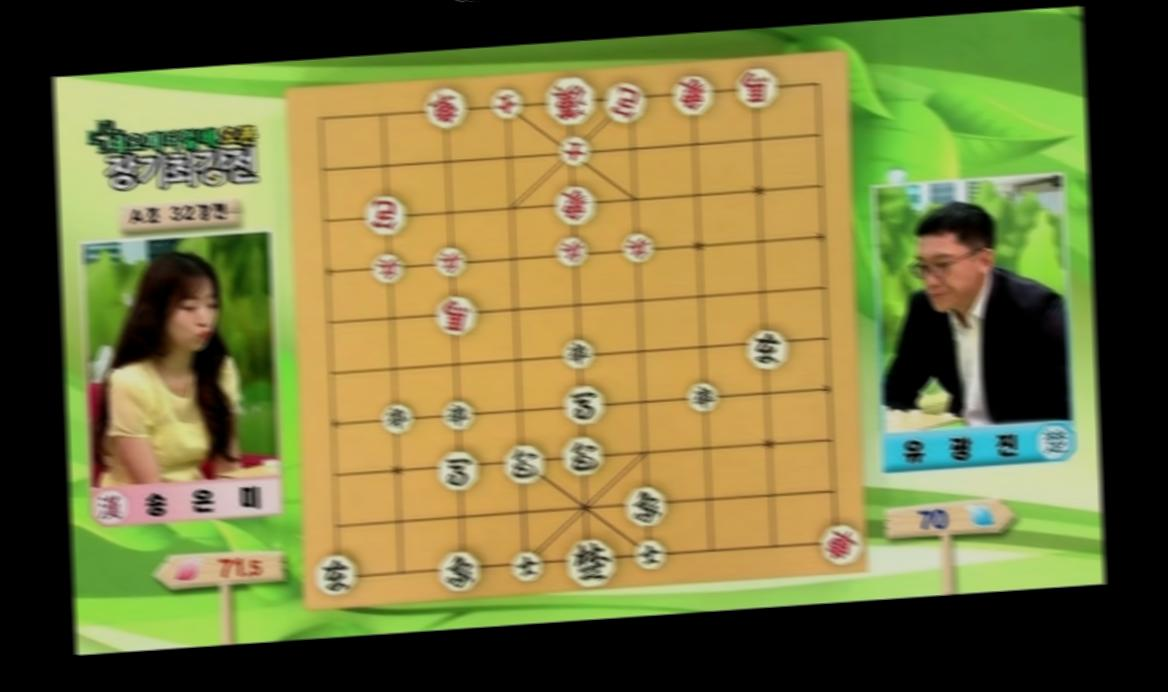cha_green: (746, 327, 791, 370), (313, 553, 357, 594)
cha_red: (818, 523, 866, 567), (423, 89, 467, 129)
jol_green: (560, 337, 596, 369), (685, 381, 721, 413), (439, 401, 476, 430), (380, 403, 415, 433)
jol_red: (554, 235, 590, 270), (369, 251, 406, 283), (433, 245, 468, 278), (620, 231, 656, 263)
ma_green: (562, 381, 607, 426), (436, 450, 480, 492)
ma_red: (734, 66, 778, 107), (435, 296, 476, 336)
po_green: (501, 444, 547, 487), (560, 434, 605, 477)
po_red: (361, 194, 408, 238), (603, 80, 646, 124)
sa_green: (509, 552, 544, 582), (633, 539, 665, 569)
sa_red: (558, 135, 592, 167), (490, 87, 524, 118)
sang_green: (623, 483, 668, 527), (436, 551, 481, 591)
sang_red: (672, 73, 717, 119), (552, 184, 599, 225)
wang_green: (566, 537, 617, 585)
wang_red: (544, 77, 596, 126)
